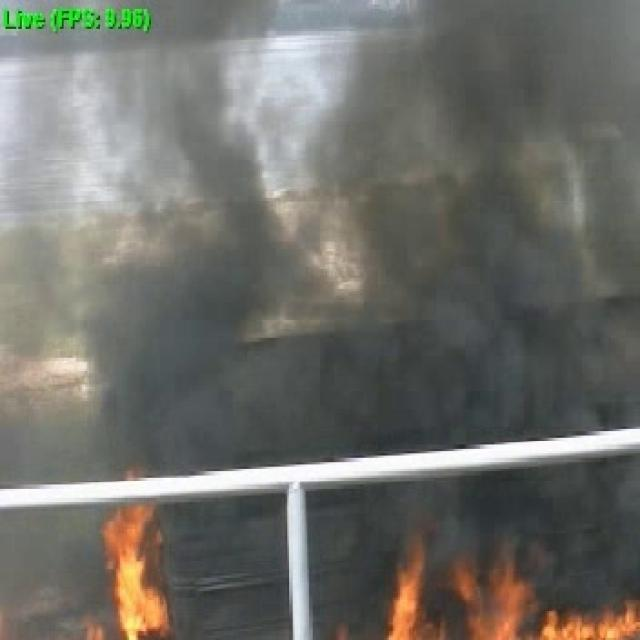fire: (380, 571, 636, 640), (104, 502, 162, 637)
smoke: (354, 56, 625, 431), (124, 43, 249, 454)
